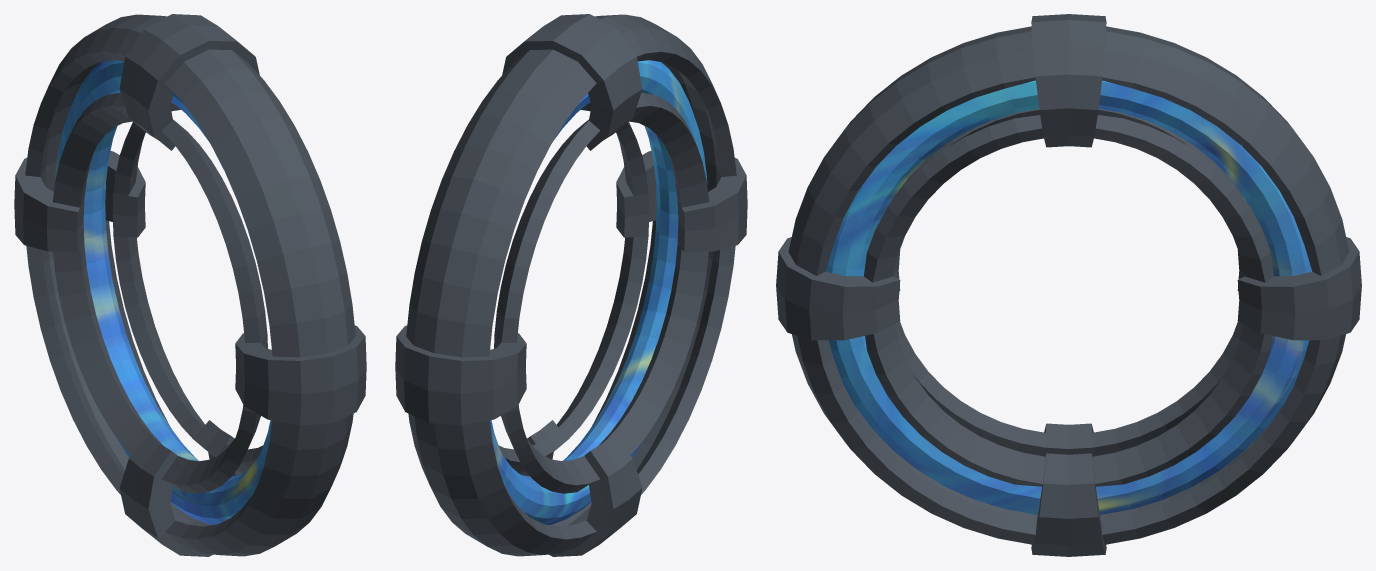
Rendered from Ring2.fbx.
3 renders of one model, left to right at view 1: azimuth 30°, elevation 25°; view 2: azimuth 150°, elevation 25°; view 3: azimuth 270°, elevation 25°, orthographic. The views are drawn at different scales.
Visible parts, largest first — view 1: Torus.001, Torus; view 2: Torus.001, Torus; view 3: Torus.001, Torus.
Part boxes in pixels (x1,y1,x2,y2): Torus.001: [14, 14, 366, 556]; Torus: [54, 60, 271, 524]; Torus.001: [395, 14, 747, 556]; Torus: [490, 60, 707, 524]; Torus.001: [776, 14, 1361, 556]; Torus: [825, 80, 1312, 514].
Size of the model in its own units: 58.86 by 259 by 259.
2 materials, 2 textured.
